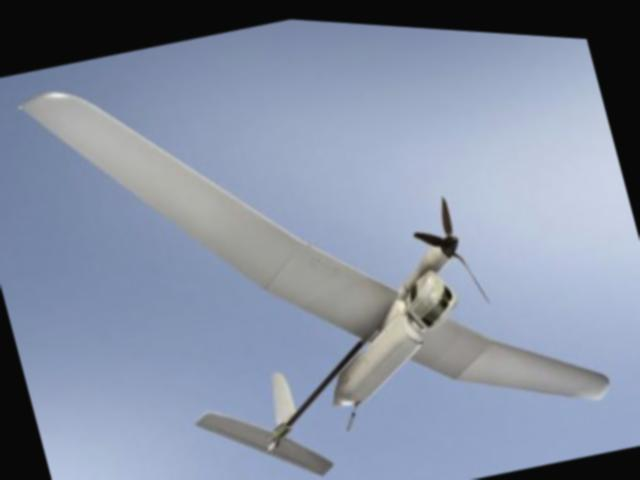uav: (10, 1, 630, 480)
